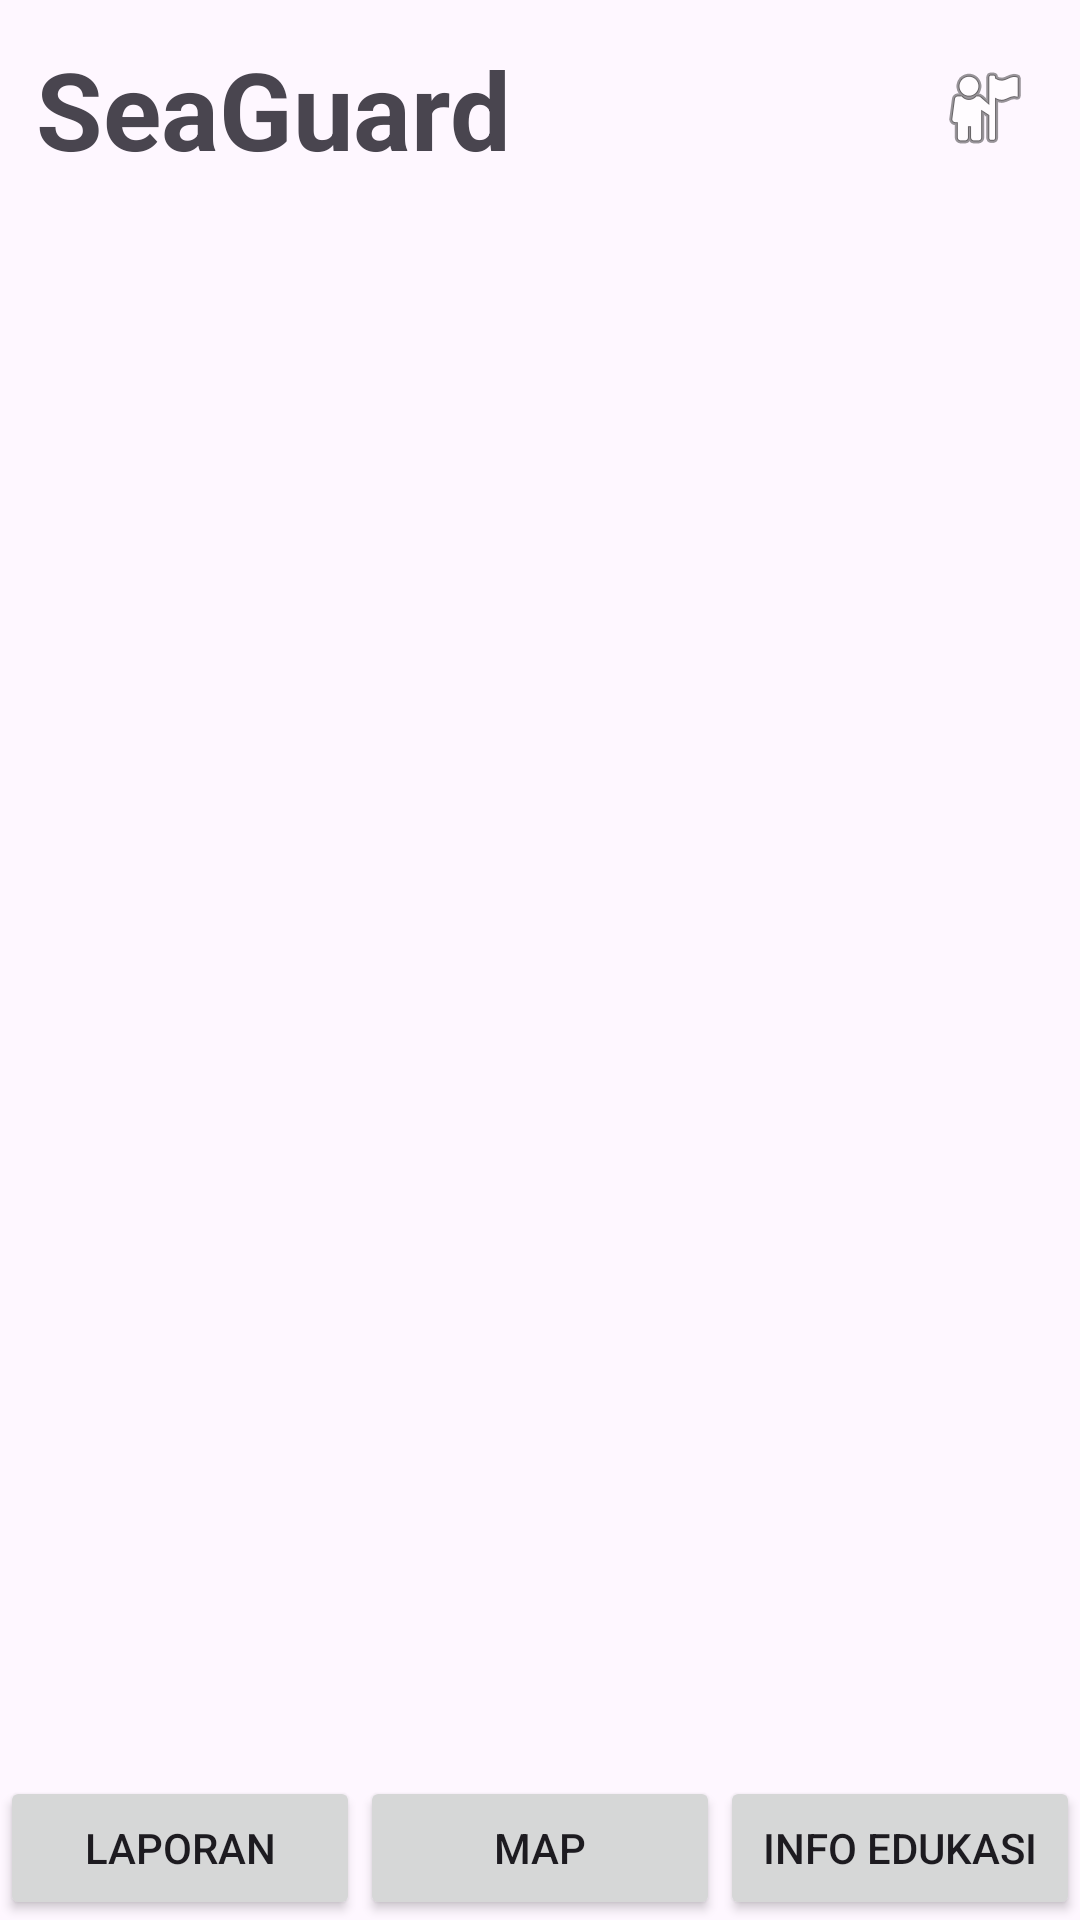

Named icons in this screenshot (1080 × 1920) and their bounding boxes, [x1,y1,x2,y2]:
Profile: [949,72,1021,144]
